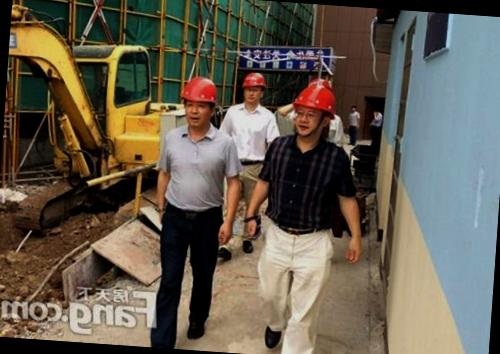no_helmet: (348, 104, 360, 114)
